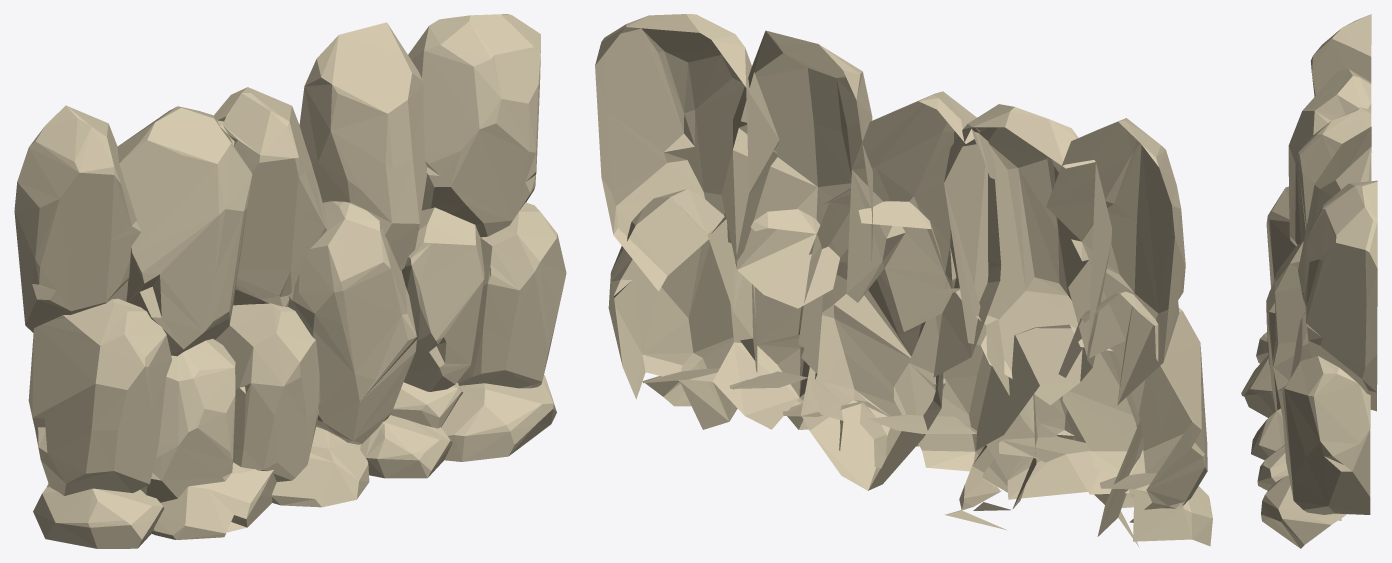
File: Stylized_Stone_Wall_01_Low.fbx
3 views of the same model, side by side, from view 1: azimuth 30°, elevation 25°; view 2: azimuth 150°, elevation 25°; view 3: azimuth 270°, elevation 25° (orthographic). The views are drawn at different scales.
Parts seen in each view (by area): view 1: SoneWall.Lp; view 2: SoneWall.Lp; view 3: SoneWall.Lp.
Part boxes in pixels (x1,y1,x2,y2): SoneWall.Lp: (14, 14, 566, 548); SoneWall.Lp: (595, 14, 1212, 547); SoneWall.Lp: (1241, 14, 1377, 548).
Size of the model in its own units: 1795 by 458 by 1310.
